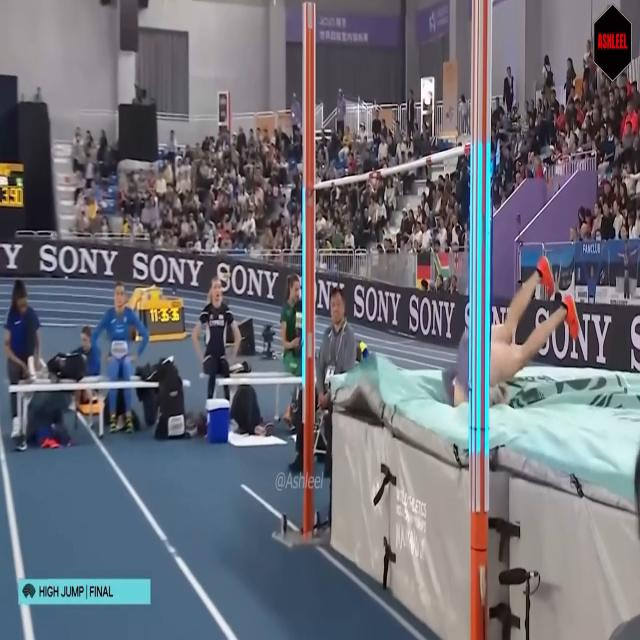land: (453, 220, 578, 404)
